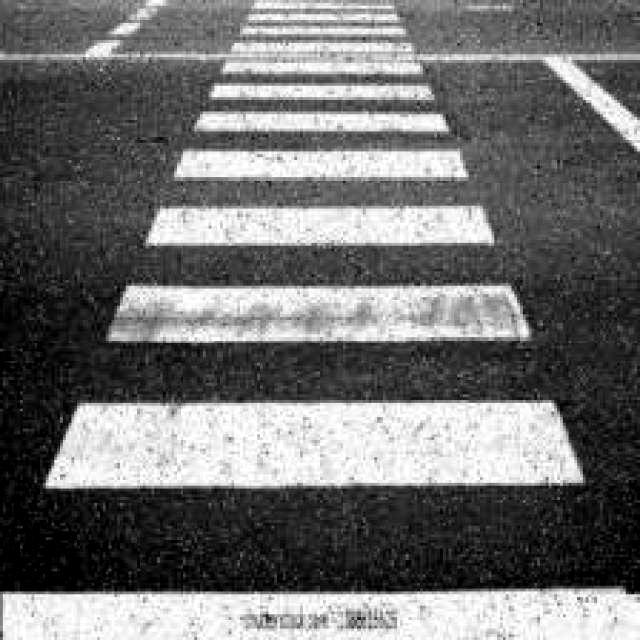crosswalk: (2, 2, 624, 639)
